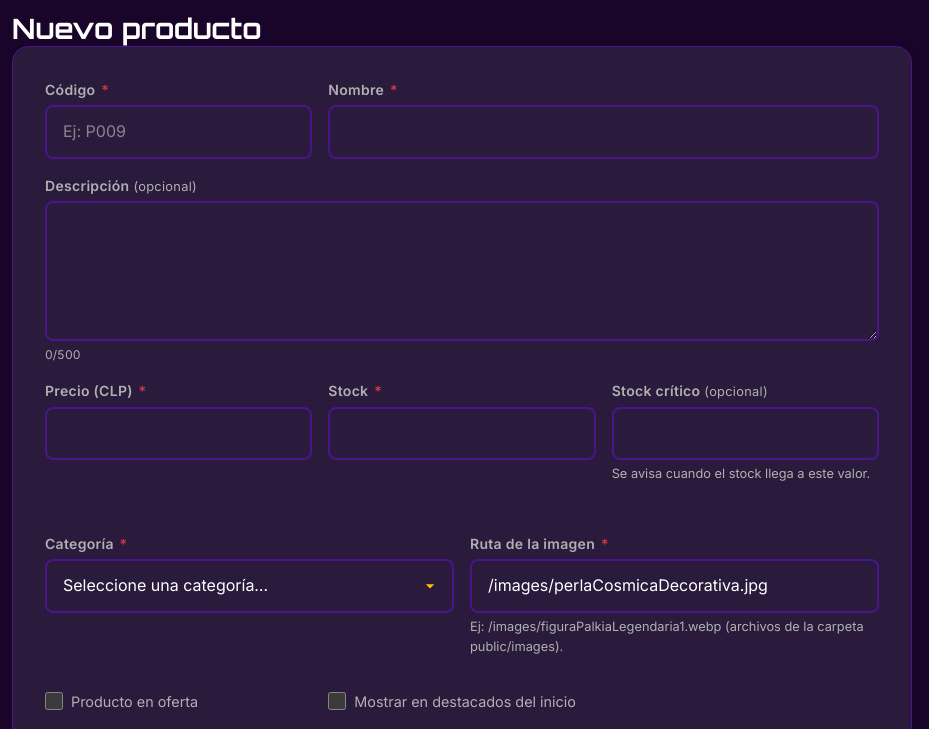
<AdminProductoForm /> — CRUD desde la interfaz › RENDERIZADO CONDICIONAL: alerta cuando el stock llega al nivel crítico
Expected: the text "nivel crítico" is not shown
Type "2" into the field labelled "Stock *". click: (462, 433)
box: [328, 407, 596, 460]
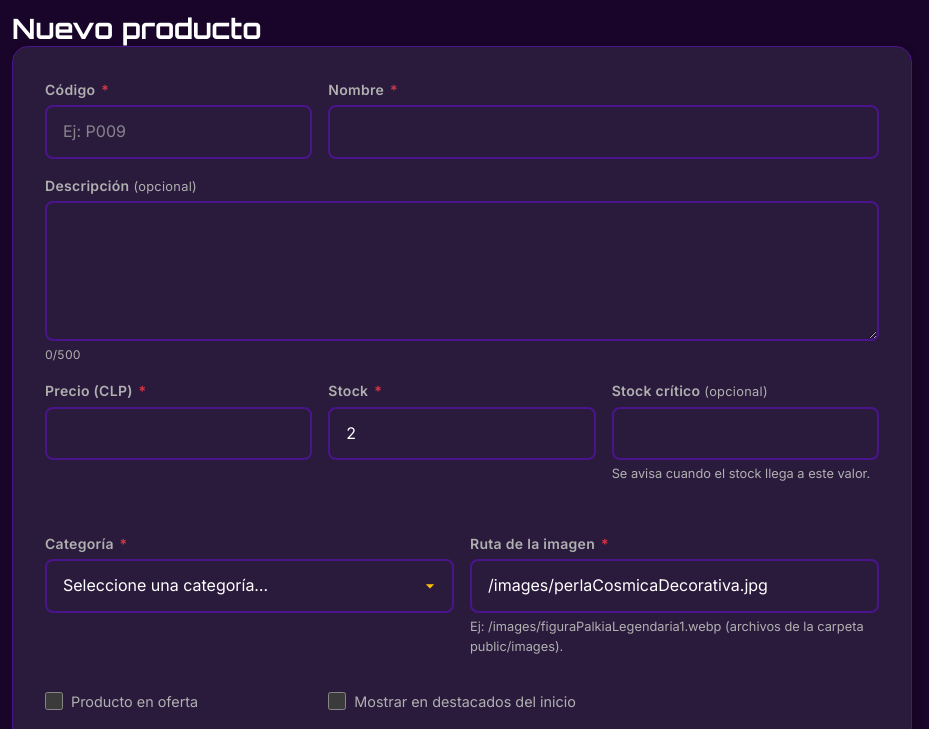
Type "3" into the field labelled "Stock crítico (opcional)". click: (745, 434)
box: [612, 407, 879, 460]
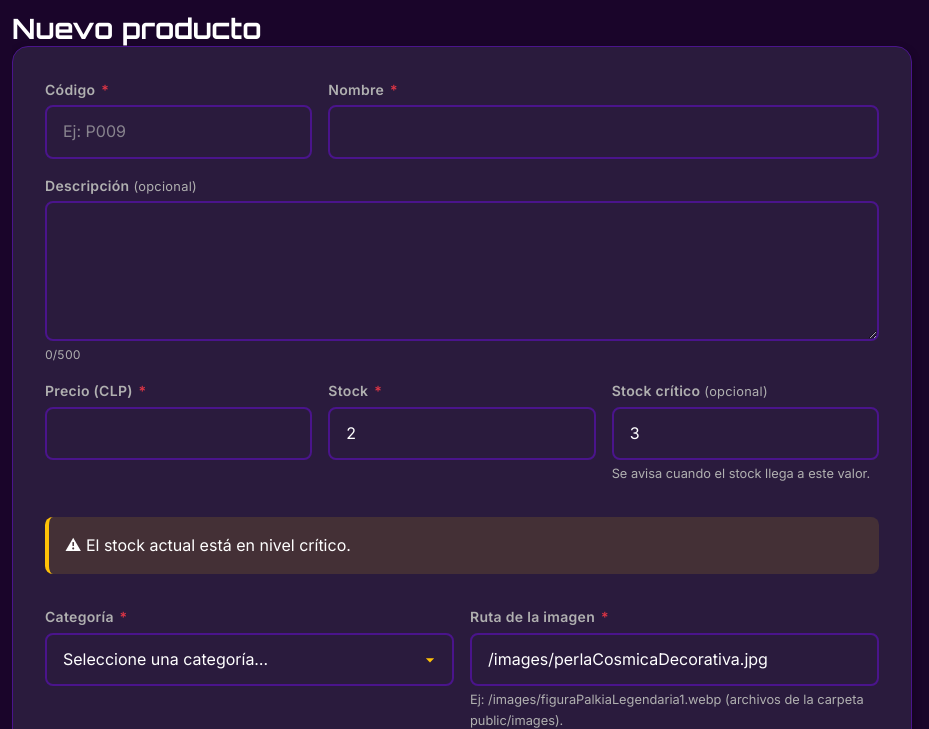
Expected: the text "⚠ El stock actual está en nivel crítico." is shown, [45, 517, 879, 574]
